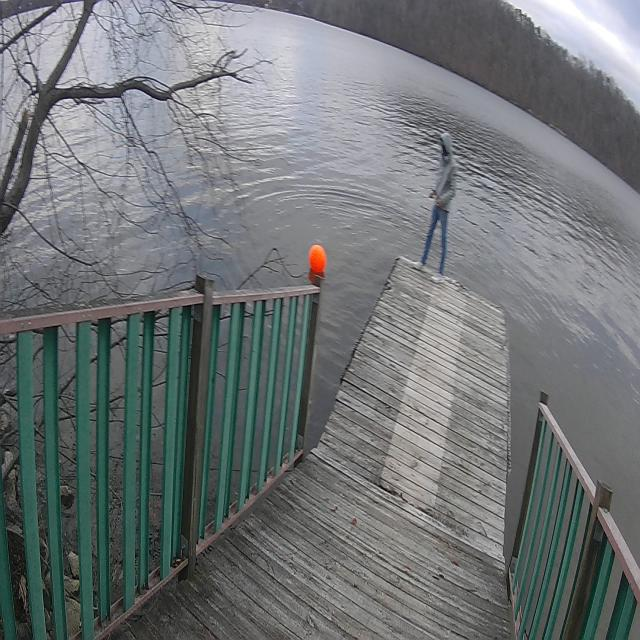Buoy: (308, 242, 326, 277)
